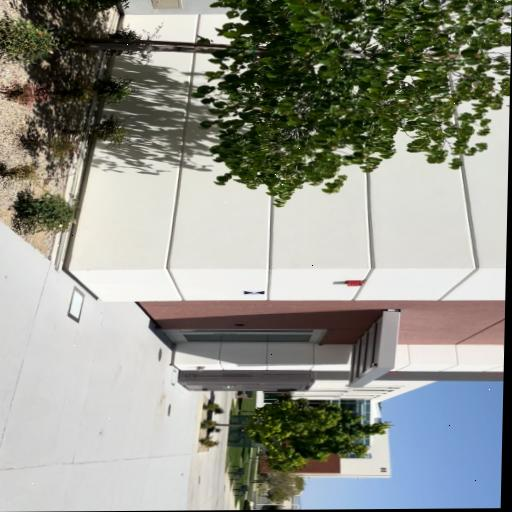target6: (242, 290, 265, 296)
